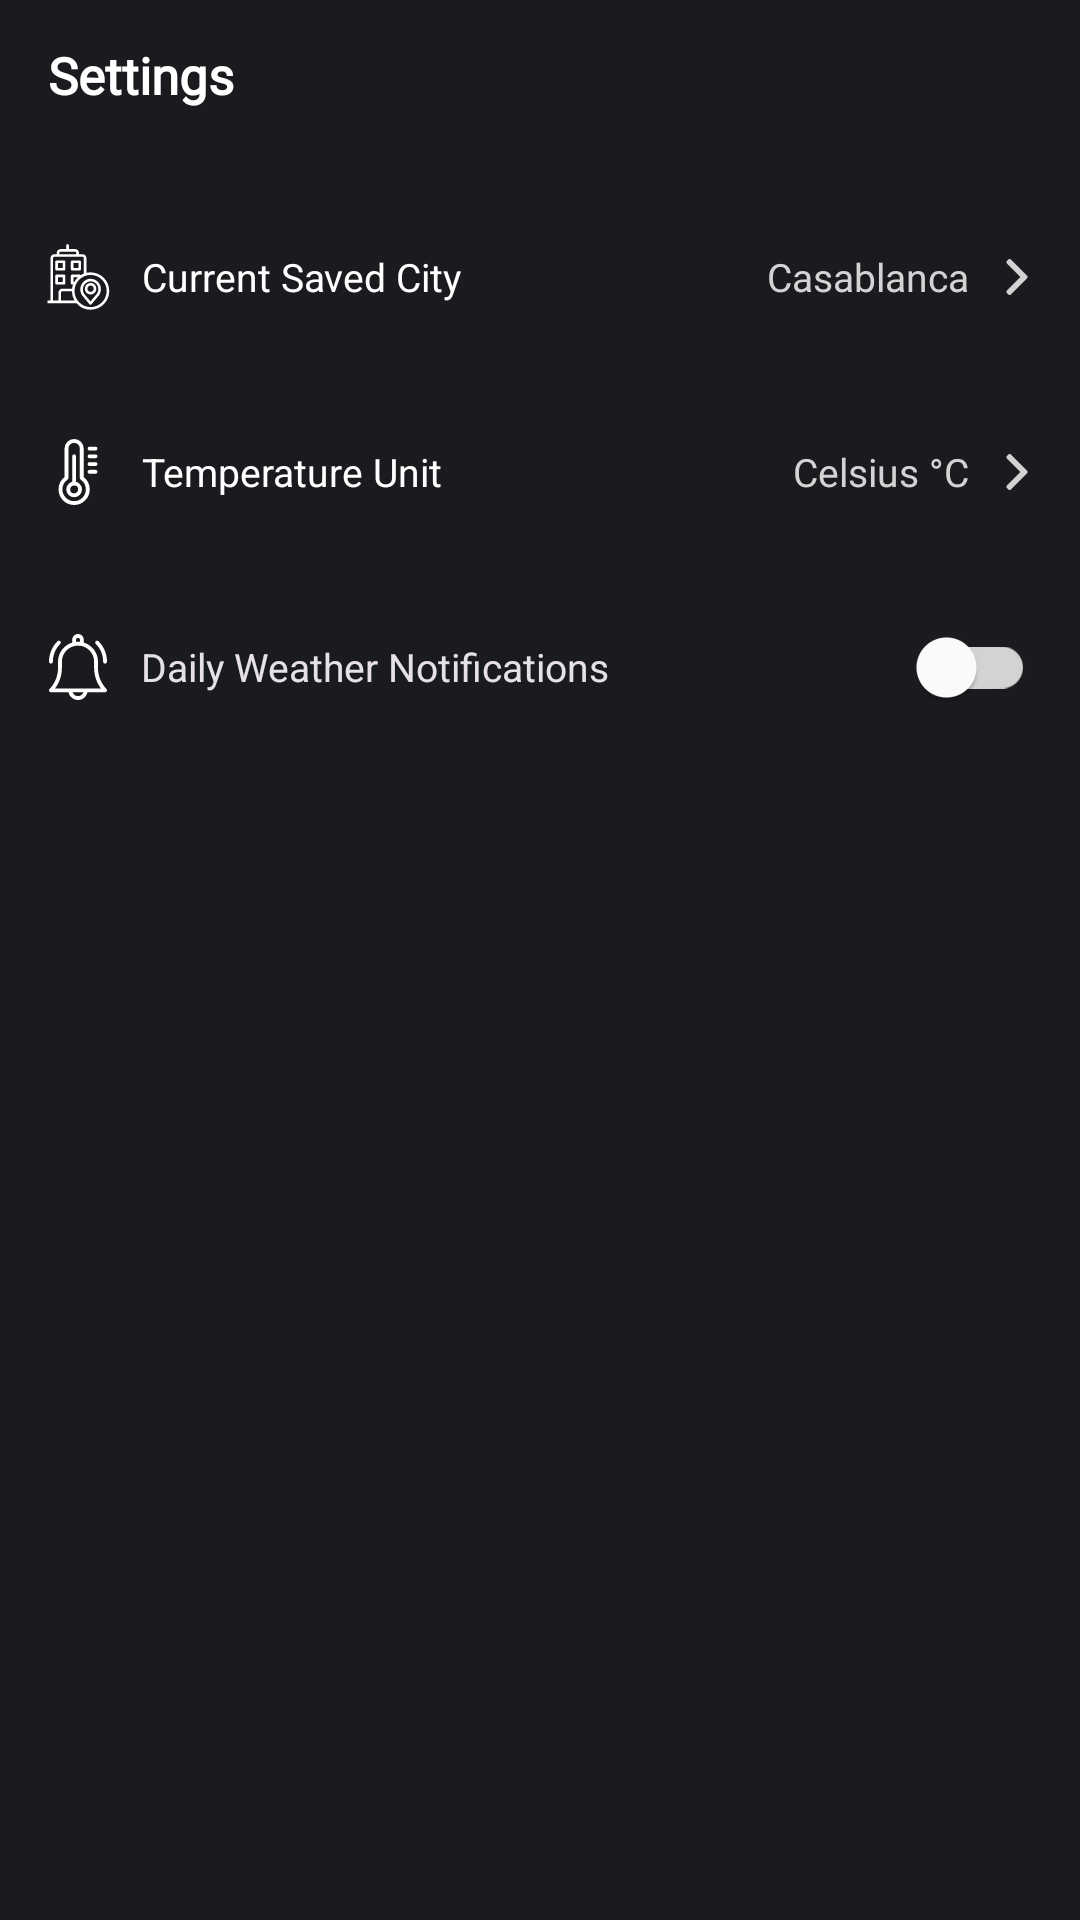

Locate icon controls on the screen. Image size 1080w x 1920h, boxes as (x1, y1, x2, y2).
forward: (1006, 259, 1028, 295), (1006, 454, 1028, 490)
